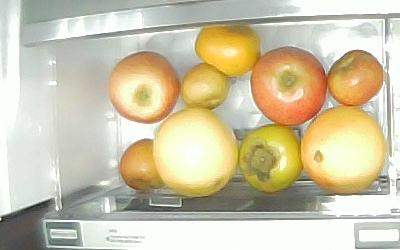apple: (250, 45, 326, 125), (108, 51, 180, 124)
grapefruit: (152, 107, 238, 198), (301, 105, 384, 193)
persimmon: (239, 124, 301, 192), (194, 23, 259, 77)
prune: (328, 49, 384, 106), (180, 63, 229, 110), (119, 138, 163, 190)
